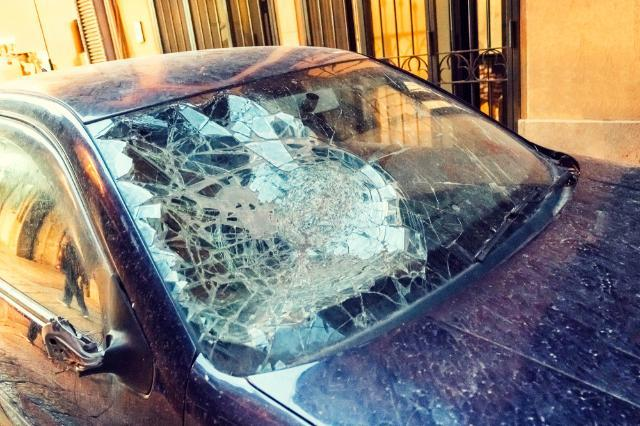glass shatter: (86, 58, 556, 378)
